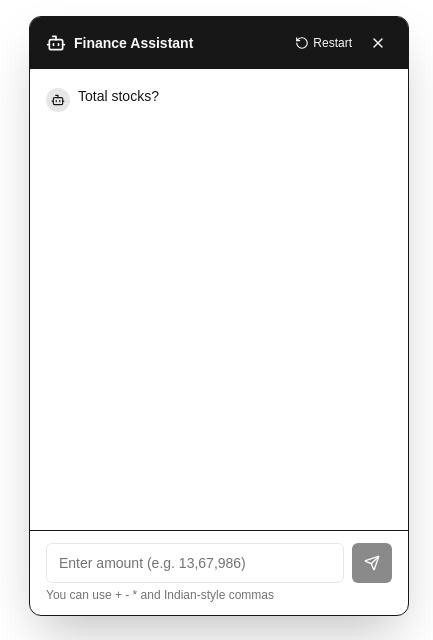
Test: FinanceAssistantChat Input Validation › should show error for invalid amount input
Check: the text "Total stocks?" is shown, box [78,88,159,104]
Type "not a number" into the field with placeholder "Enter amount (e.g. 13,67,986)" at (195,563), box [46,543,344,583]
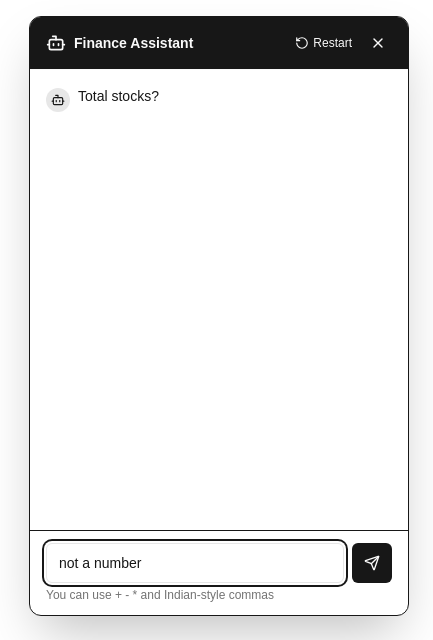
Press Enter
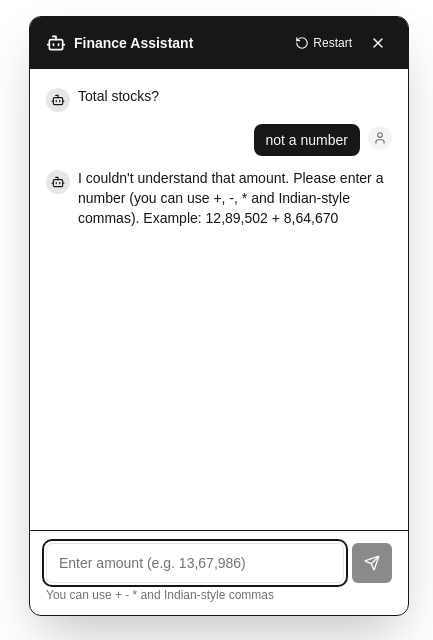
Check: the text "couldn't understand that amount" is shown, box [78,170,383,226]
